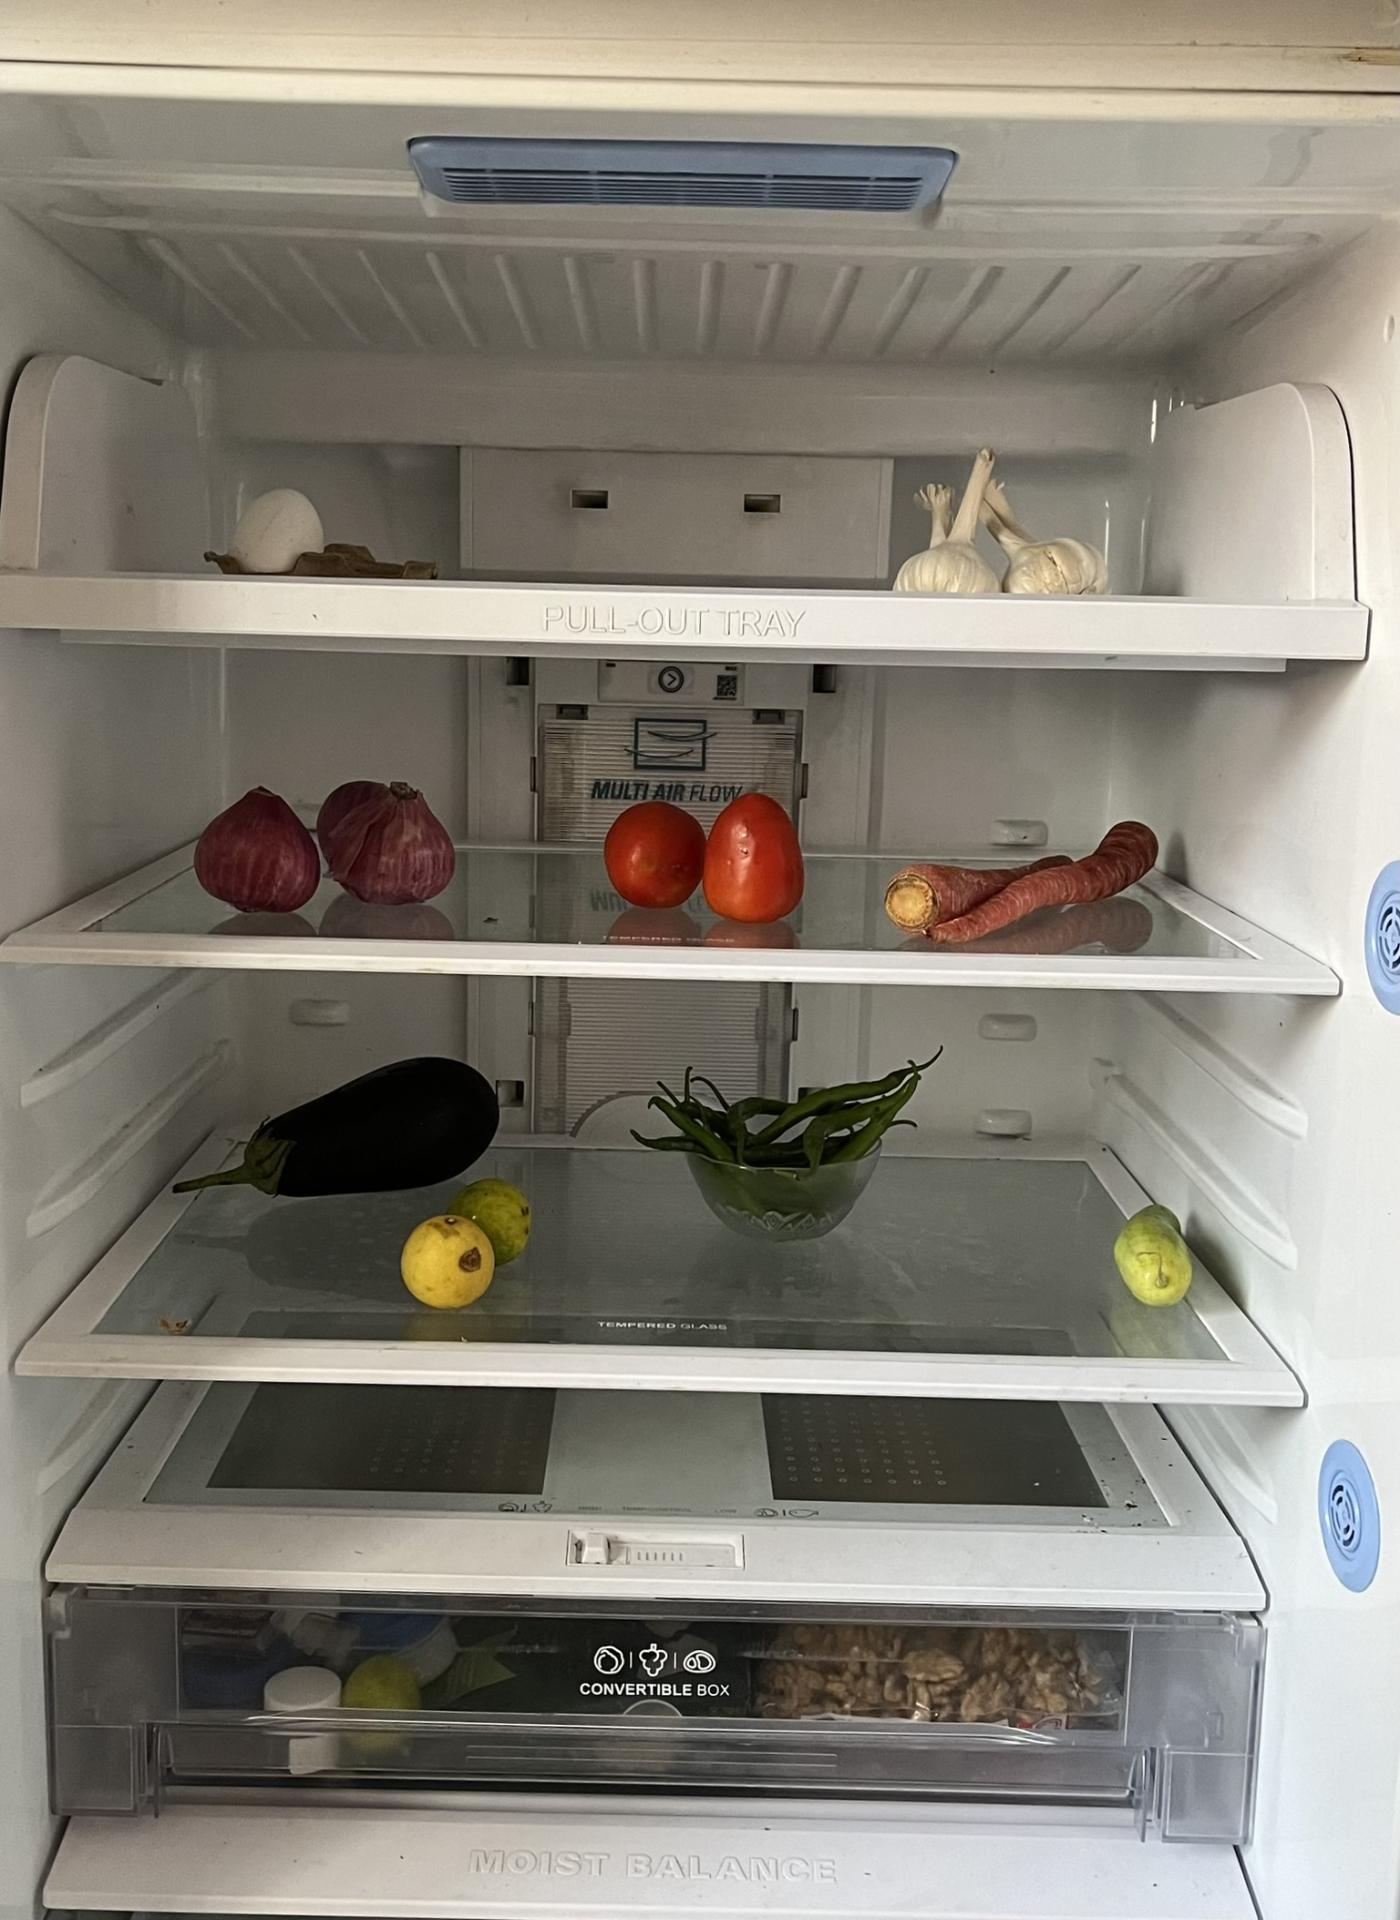brinjal: (180, 1057, 513, 1201)
carrots: (877, 827, 1154, 941)
chillies: (659, 1057, 914, 1230)
egg: (225, 483, 325, 577)
garlic: (899, 452, 1105, 601)
lemon: (404, 1204, 531, 1310)
onion: (200, 781, 450, 918)
tomato: (608, 793, 798, 920)
